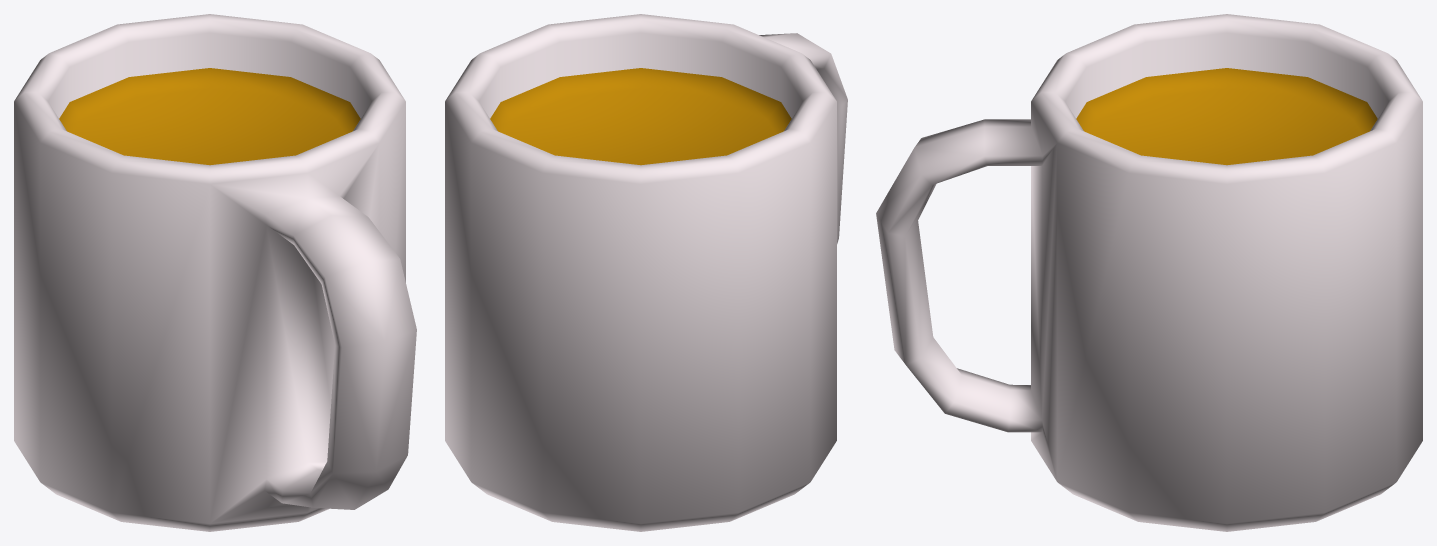
File: mesh_mug.fbx
The picture shows the model from 3 angles, left to right: view 1: azimuth 30°, elevation 25°; view 2: azimuth 150°, elevation 25°; view 3: azimuth 270°, elevation 25°; orthographic projection.
Visible parts, largest first — view 1: pCylinder17; view 2: pCylinder17; view 3: pCylinder17.
Part boxes in pixels (bbox=[...]): pCylinder17: bbox=[14, 14, 416, 531]; pCylinder17: bbox=[445, 14, 847, 531]; pCylinder17: bbox=[876, 14, 1422, 531].
Size of the model in its own units: 4.1 by 4.21 by 5.73.
